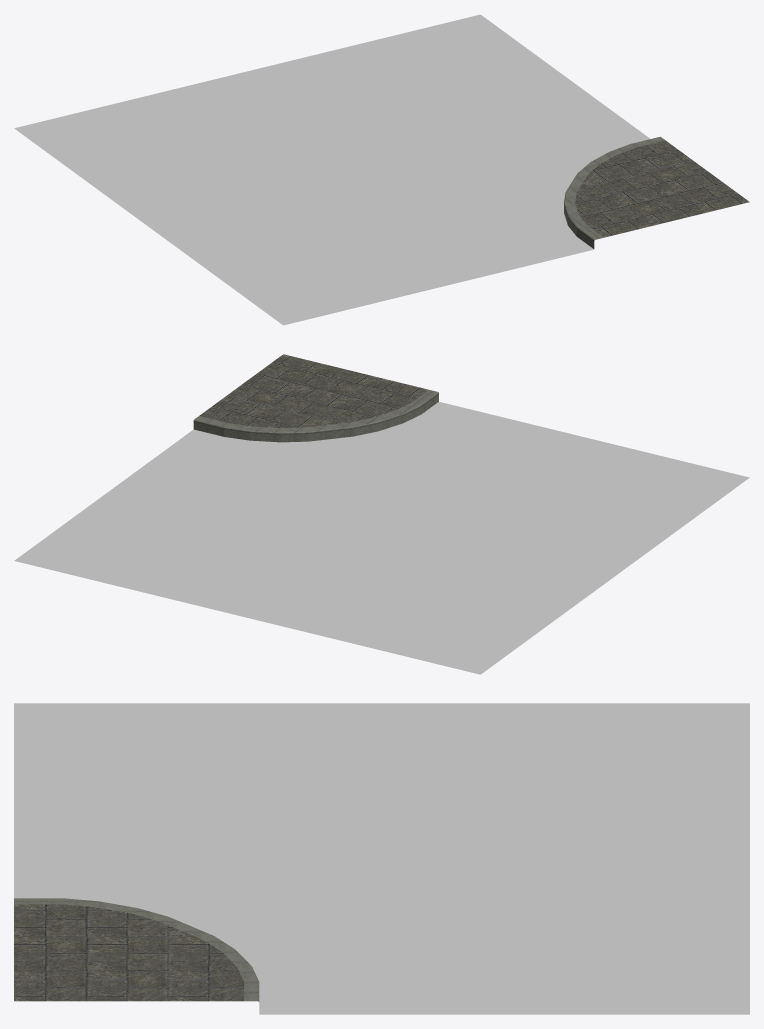
Rendered from CT_Road_Corner_003.fbx.
3 views of the same model, one above another, from view 1: azimuth 30°, elevation 25°; view 2: azimuth 150°, elevation 25°; view 3: azimuth 270°, elevation 25° (orthographic). The views are drawn at different scales.
Visible parts, largest first — view 1: CT_Road_Corner_003; view 2: CT_Road_Corner_003; view 3: CT_Road_Corner_003.
Boxes of the visible parts, x1,y1,x2,y2 form: CT_Road_Corner_003: (14,14,749,325); CT_Road_Corner_003: (14,354,749,674); CT_Road_Corner_003: (14,703,749,1014).
Size of the model in its own units: 768 by 15 by 768.
